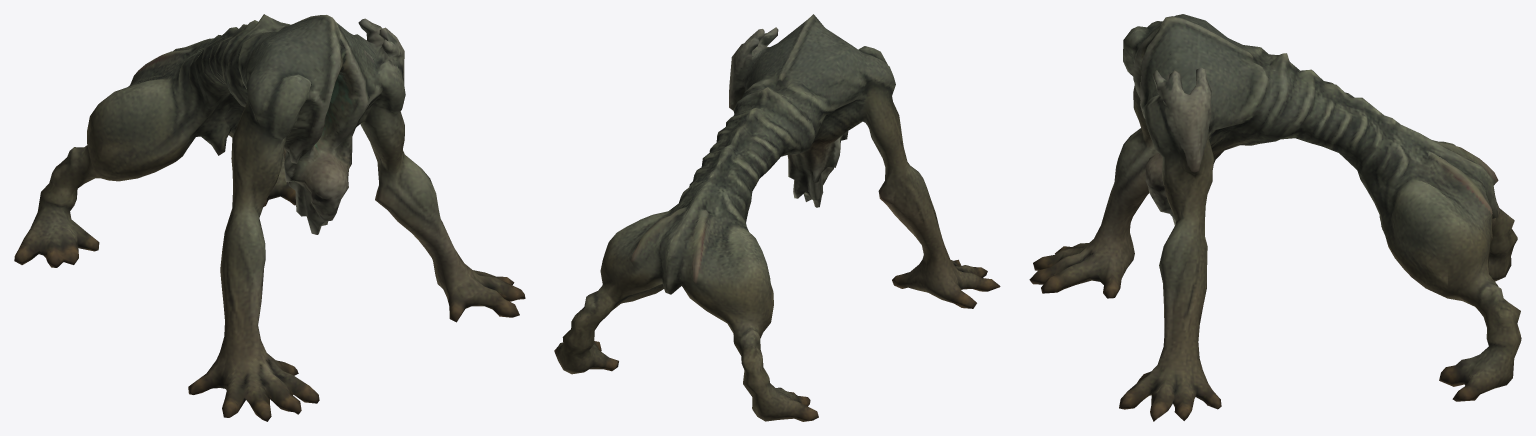
The model's file is vaal_husk_v1.glb.
3 renders of one model, left to right at view 1: azimuth 30°, elevation 25°; view 2: azimuth 150°, elevation 25°; view 3: azimuth 270°, elevation 25°, orthographic. The views are drawn at different scales.
Parts seen in each view (by area): view 1: vaal-husk-m0q-4000; view 2: vaal-husk-m0q-4000; view 3: vaal-husk-m0q-4000.
Boxes of the visible parts, x1,y1,x2,y2 form: vaal-husk-m0q-4000: (14, 14, 525, 421); vaal-husk-m0q-4000: (554, 14, 1000, 421); vaal-husk-m0q-4000: (1029, 14, 1521, 421).
Size of the model in its own units: 0.8191 by 0.7132 by 1.
1 material, 1 textured.
